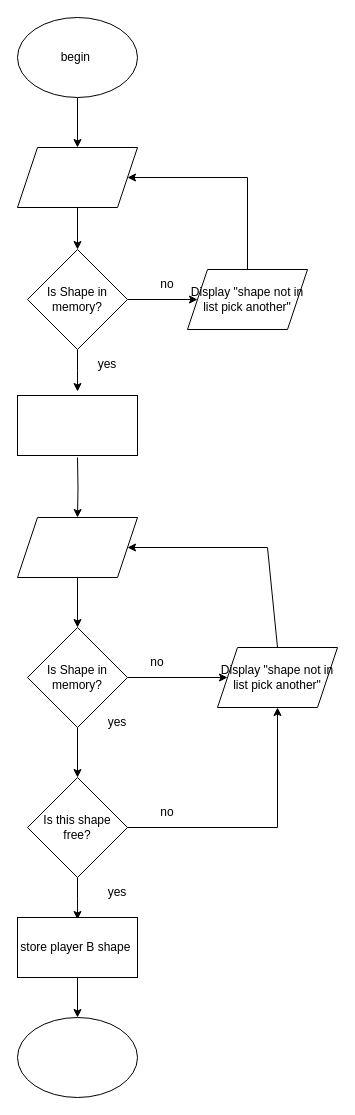
Some shapes in this 355 by 1115 pixel diagram are drawn without their labels. Here are the shapes that lost their labels. From the top down, the centre of each, then its label:
At (x=77, y=177): "Player A choose shape".
At (x=77, y=425): "store player A shape".
At (x=77, y=547): "Player B choose shape".
At (x=77, y=1057): "end".
